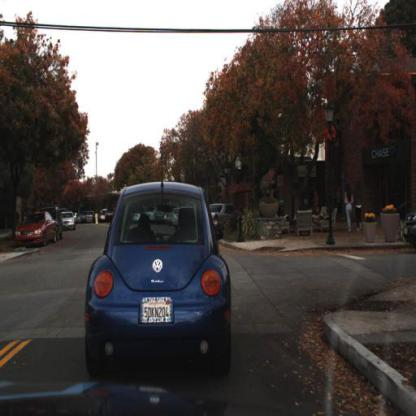car: (83, 172, 237, 384), (15, 211, 58, 248), (208, 202, 241, 231), (47, 202, 64, 240), (402, 207, 416, 249), (60, 211, 78, 235)
pedestrian: (345, 184, 354, 241), (355, 182, 365, 232), (336, 185, 344, 218), (314, 192, 322, 210), (320, 204, 329, 220)
